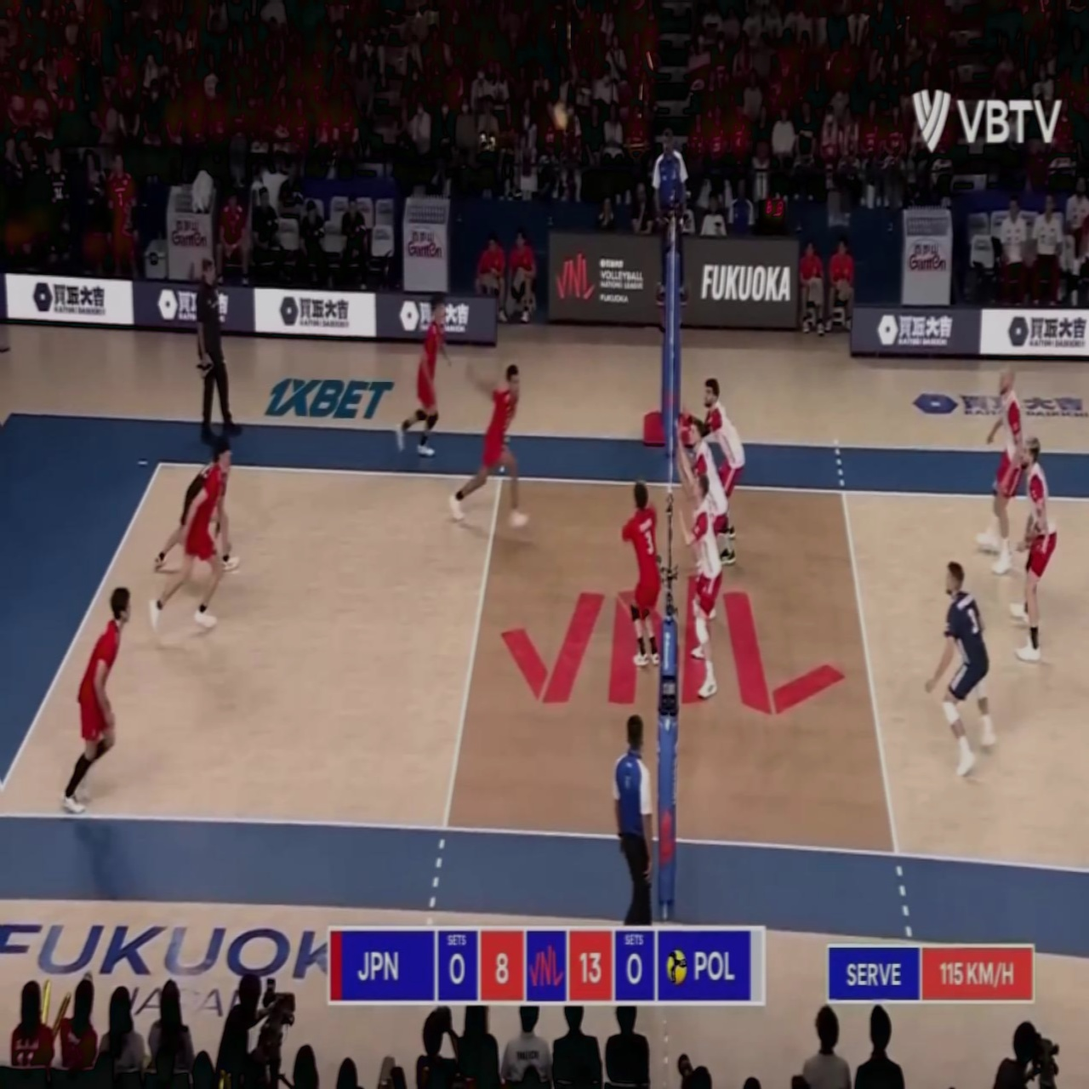ball: (552, 104, 565, 130)
